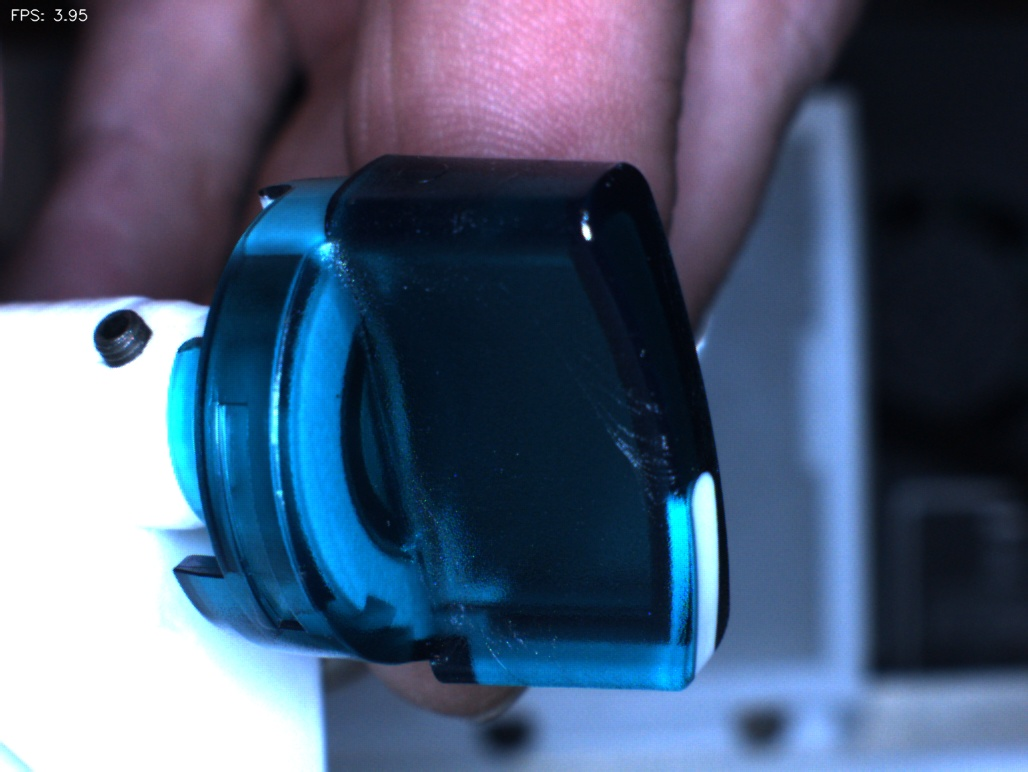Givrage: (578, 364, 677, 494)
